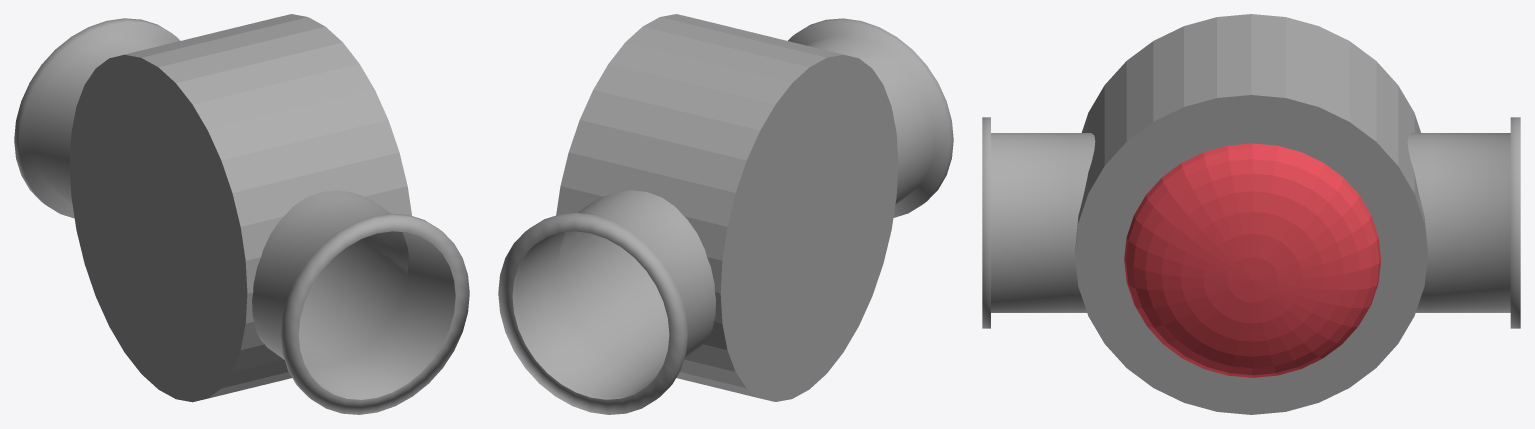
File: OO_Valve_Red.fbx
The picture shows the model from 3 angles, left to right: view 1: azimuth 30°, elevation 25°; view 2: azimuth 150°, elevation 25°; view 3: azimuth 270°, elevation 25°; orthographic projection.
Parts seen in each view (by area): view 1: 0_PipeValveRed; view 2: 0_PipeValveRed; view 3: 0_PipeValveRed.
Part boxes in pixels (x1,y1,x2,y2): 0_PipeValveRed: (14,14,469,414); 0_PipeValveRed: (498,14,953,414); 0_PipeValveRed: (982,14,1520,414).
Size of the model in its own units: 91.65 by 129 by 197.
